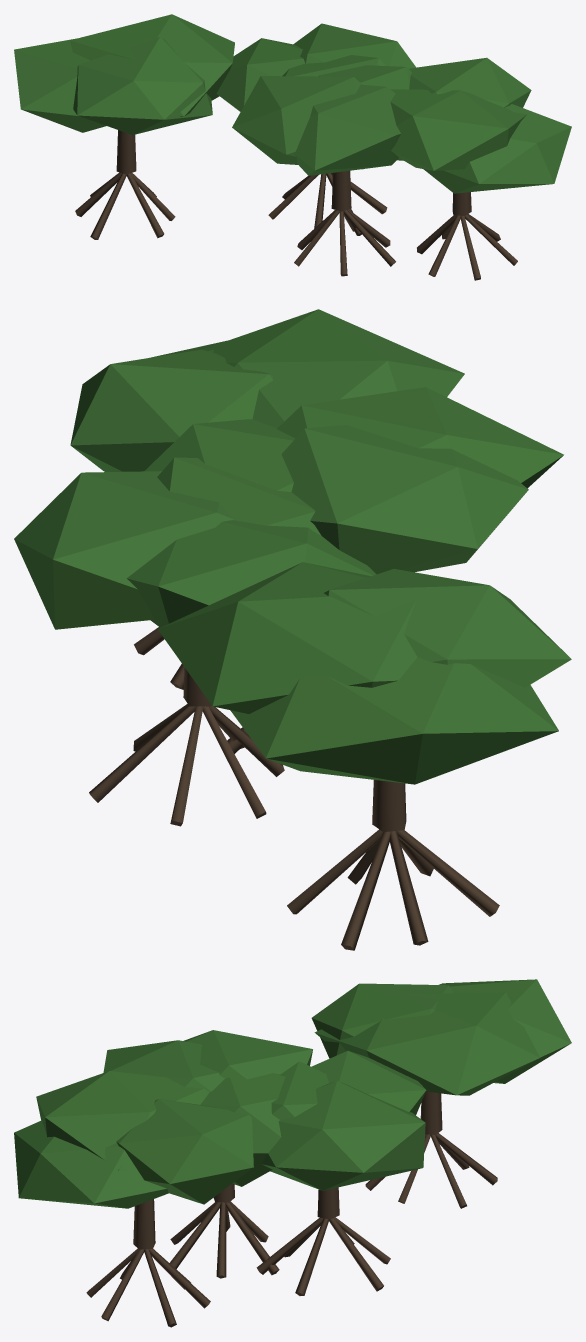
The model's file is sawyer_mangrove_a.glb.
3 views of the same model, one above another, from view 1: azimuth 30°, elevation 25°; view 2: azimuth 150°, elevation 25°; view 3: azimuth 270°, elevation 25° (orthographic). The views are drawn at different scales.
Visible parts, largest first — view 1: mangrove_3_crown1, mangrove_2_crown0, mangrove_0_crown2, mangrove_0_crown0, mangrove_2_crown2, mangrove_3_crown0, mangrove_3_crown2, mangrove_2_crown1, mangrove_1_crown0, mangrove_1_crown1, mangrove_0_crown1, mangrove_1_crown2 (+17 smaller); view 2: mangrove_3_crown2, mangrove_0_crown0, mangrove_3_crown0, mangrove_1_crown1, mangrove_2_crown1, mangrove_2_crown0, mangrove_3_crown1, mangrove_1_crown0, mangrove_0_crown2, mangrove_0_crown1, mangrove_1_crown2, mangrove_3_trunk (+8 smaller); view 3: mangrove_3_crown0, mangrove_1_crown1, mangrove_2_crown1, mangrove_2_crown2, mangrove_2_crown0, mangrove_3_crown1, mangrove_0_crown0, mangrove_0_crown1, mangrove_3_crown2, mangrove_0_crown2, mangrove_1_crown0, mangrove_1_crown2 (+15 smaller).
Part boxes in pixels (left/top/right/bottom): mangrove_3_crown1: left=73, top=37, right=212, bottom=134; mangrove_2_crown0: left=390, top=89, right=526, bottom=170; mangrove_0_crown2: left=294, top=84, right=400, bottom=175; mangrove_0_crown0: left=232, top=76, right=363, bottom=169; mangrove_2_crown2: left=423, top=104, right=571, bottom=193; mangrove_3_crown0: left=70, top=14, right=234, bottom=116; mangrove_3_crown2: left=14, top=38, right=105, bottom=132; mangrove_2_crown1: left=409, top=57, right=531, bottom=107; mangrove_1_crown0: left=216, top=38, right=305, bottom=111; mangrove_1_crown1: left=293, top=23, right=416, bottom=68; mangrove_0_crown1: left=318, top=65, right=411, bottom=160; mangrove_1_crown2: left=282, top=55, right=385, bottom=76; mangrove_3_crown2: left=230, top=657, right=558, bottom=784; mangrove_0_crown0: left=281, top=425, right=528, bottom=574; mangrove_3_crown0: left=157, top=562, right=417, bottom=713; mangrove_1_crown1: left=14, top=471, right=233, bottom=629; mangrove_2_crown1: left=70, top=349, right=273, bottom=471; mangrove_2_crown0: left=202, top=309, right=464, bottom=428; mangrove_3_crown1: left=324, top=569, right=571, bottom=687; mangrove_1_crown0: left=127, top=520, right=376, bottom=627; mangrove_0_crown2: left=277, top=387, right=563, bottom=488; mangrove_0_crown1: left=144, top=419, right=295, bottom=491; mangrove_1_crown2: left=157, top=457, right=321, bottom=535; mangrove_3_trunk: left=372, top=780, right=406, bottom=832; mangrove_3_crown0: left=314, top=992, right=539, bottom=1095; mangrove_1_crown1: left=261, top=1081, right=425, bottom=1190; mangrove_2_crown1: left=116, top=1099, right=253, bottom=1204; mangrove_2_crown2: left=14, top=1120, right=168, bottom=1208; mangrove_2_crown0: left=36, top=1071, right=209, bottom=1170; mangrove_3_crown1: left=311, top=983, right=452, bottom=1058; mangrove_0_crown0: left=183, top=1030, right=312, bottom=1079; mangrove_0_crown1: left=200, top=1073, right=285, bottom=1186; mangrove_3_crown2: left=439, top=979, right=571, bottom=1083; mangrove_0_crown2: left=103, top=1040, right=224, bottom=1092; mangrove_1_crown0: left=311, top=1050, right=426, bottom=1115; mangrove_1_crown2: left=271, top=1061, right=329, bottom=1119.
Size of the model in its own units: 5.26 by 2.22 by 5.67.
